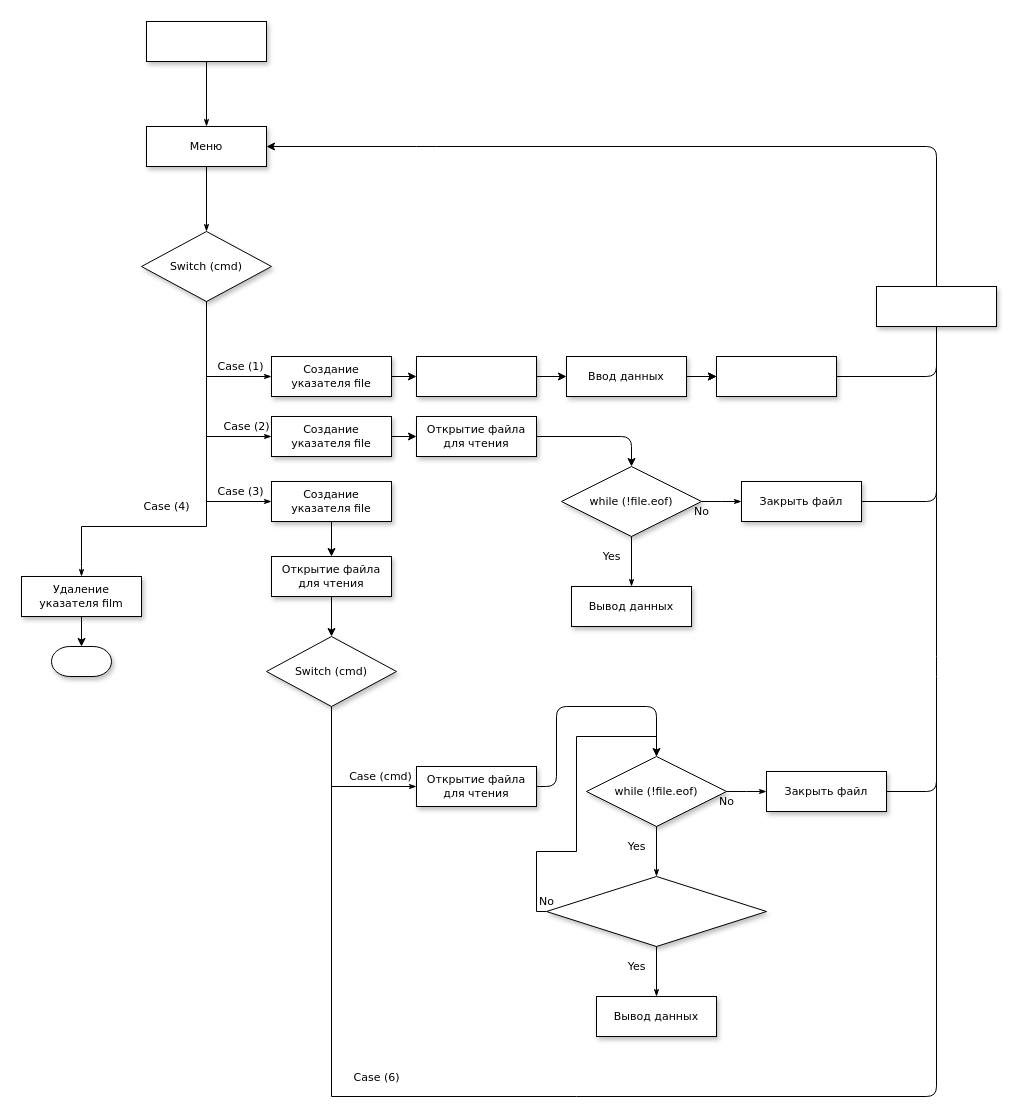
The diagram is 1020 pixels wide and 1115 high, and some of its shapes have lost their labels. Here are the shapes that lost their labels. From the top down, the centre of each, then its label:
At (207,42): "Создание указателя film".
At (937,308): "Удаление указателя file".
At (477,378): "Открытие файла для записи".
At (777,378): "Запись в файл".
At (82,663): "End".
At (657,913): "strcmp(inputStr, film.search) == 0".
